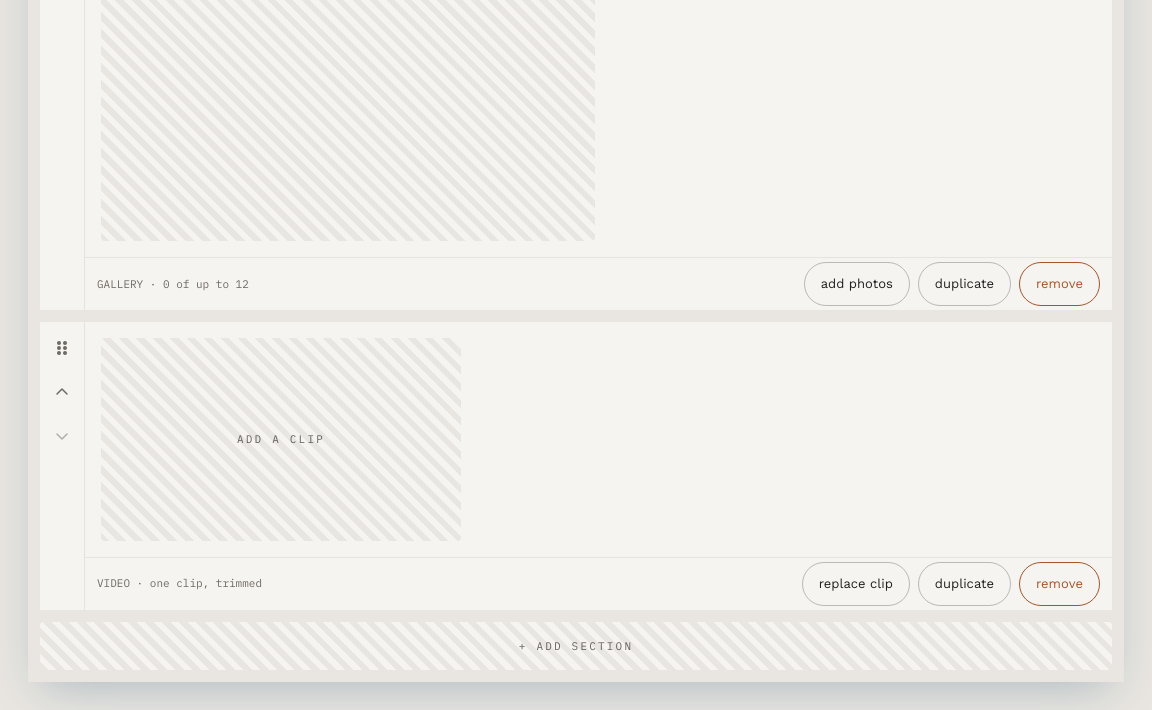
Canvas › the add tile opens the section picker (F2)
(page scrolled)
What coordinates should you click on to do the following:
click the button "+ add section"
I would click on:
 (576, 646)
Its box is [40, 622, 1112, 670].
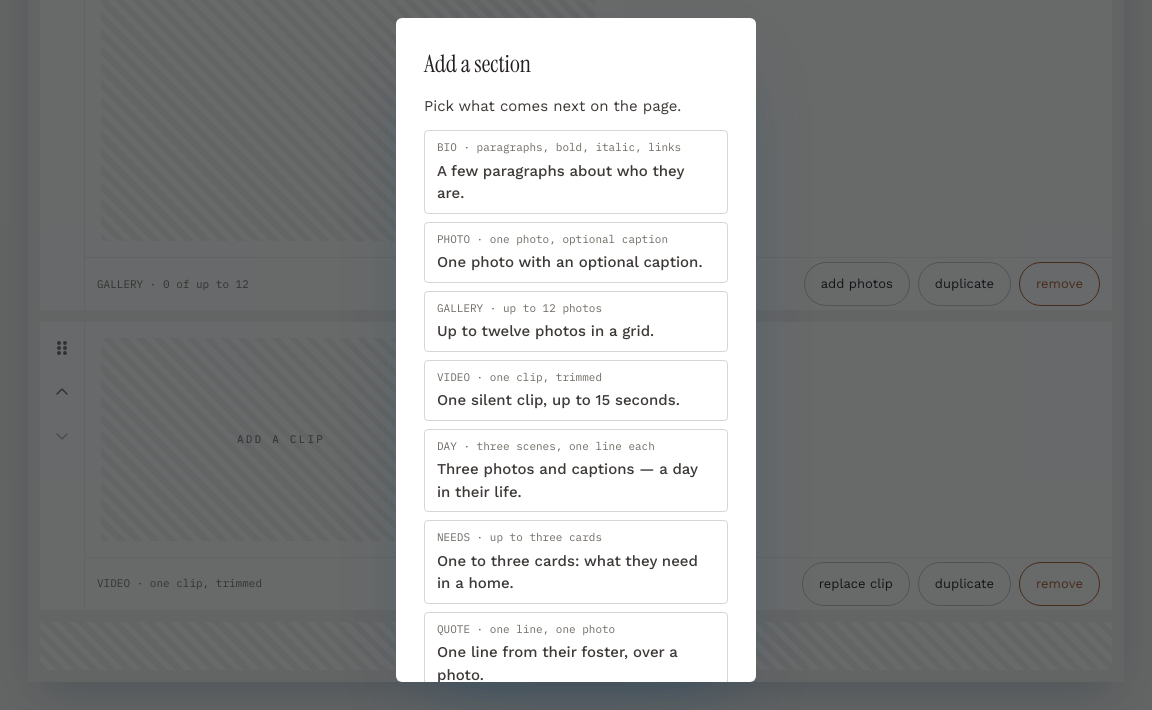
Now the dialog "Add a section" is shown, box [396, 18, 756, 682]
